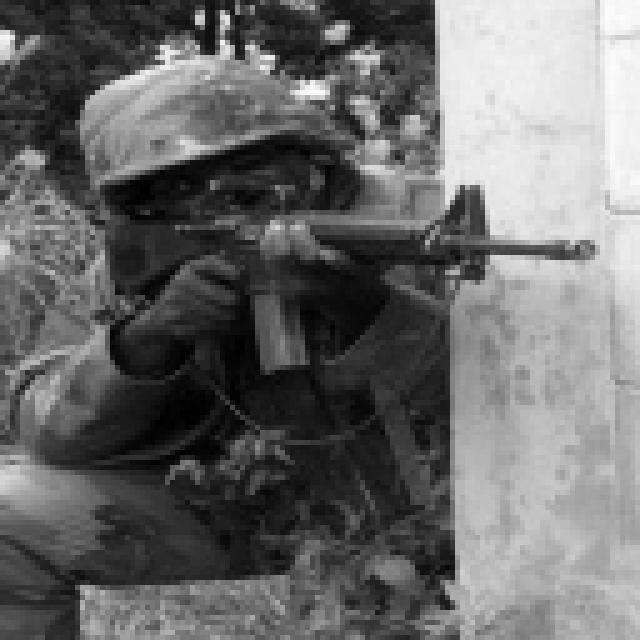Rifle: (151, 159, 636, 387)
